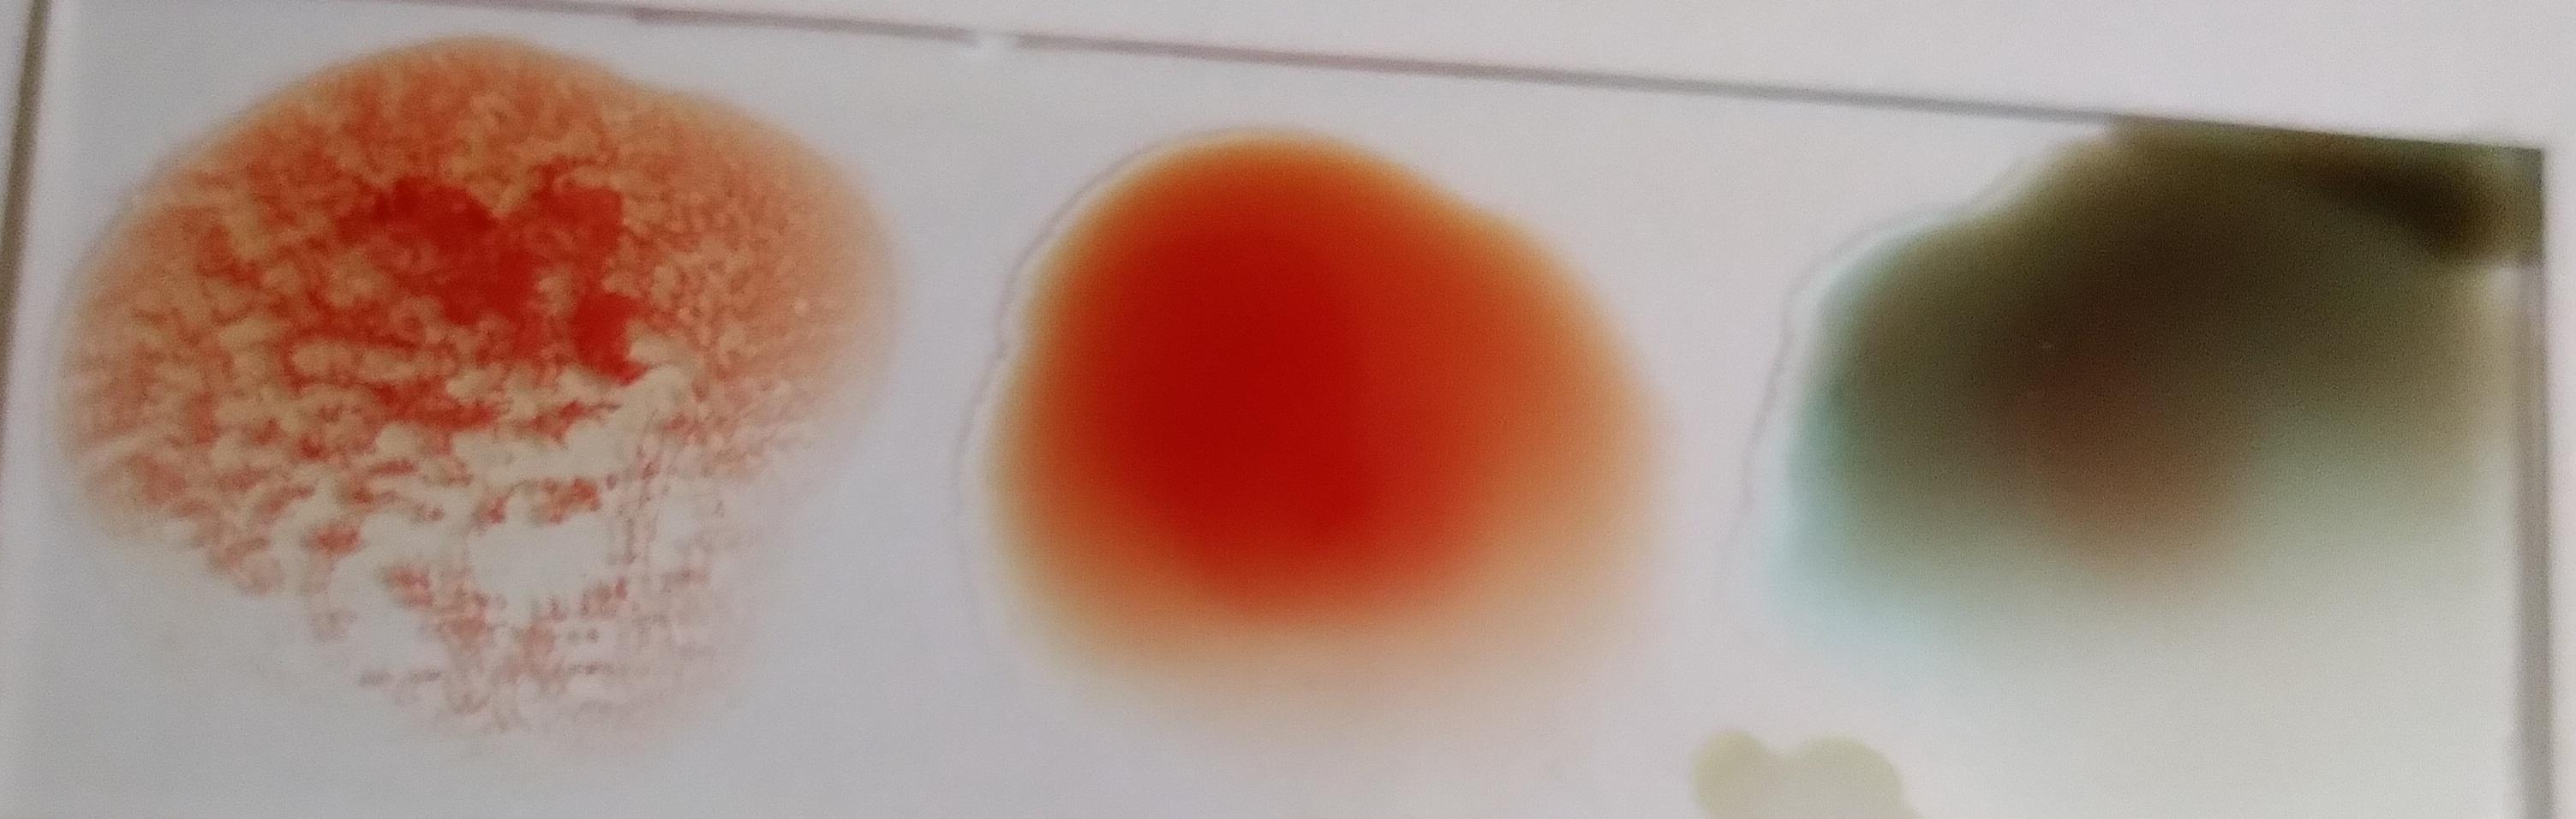D: (80, 49, 821, 665)
